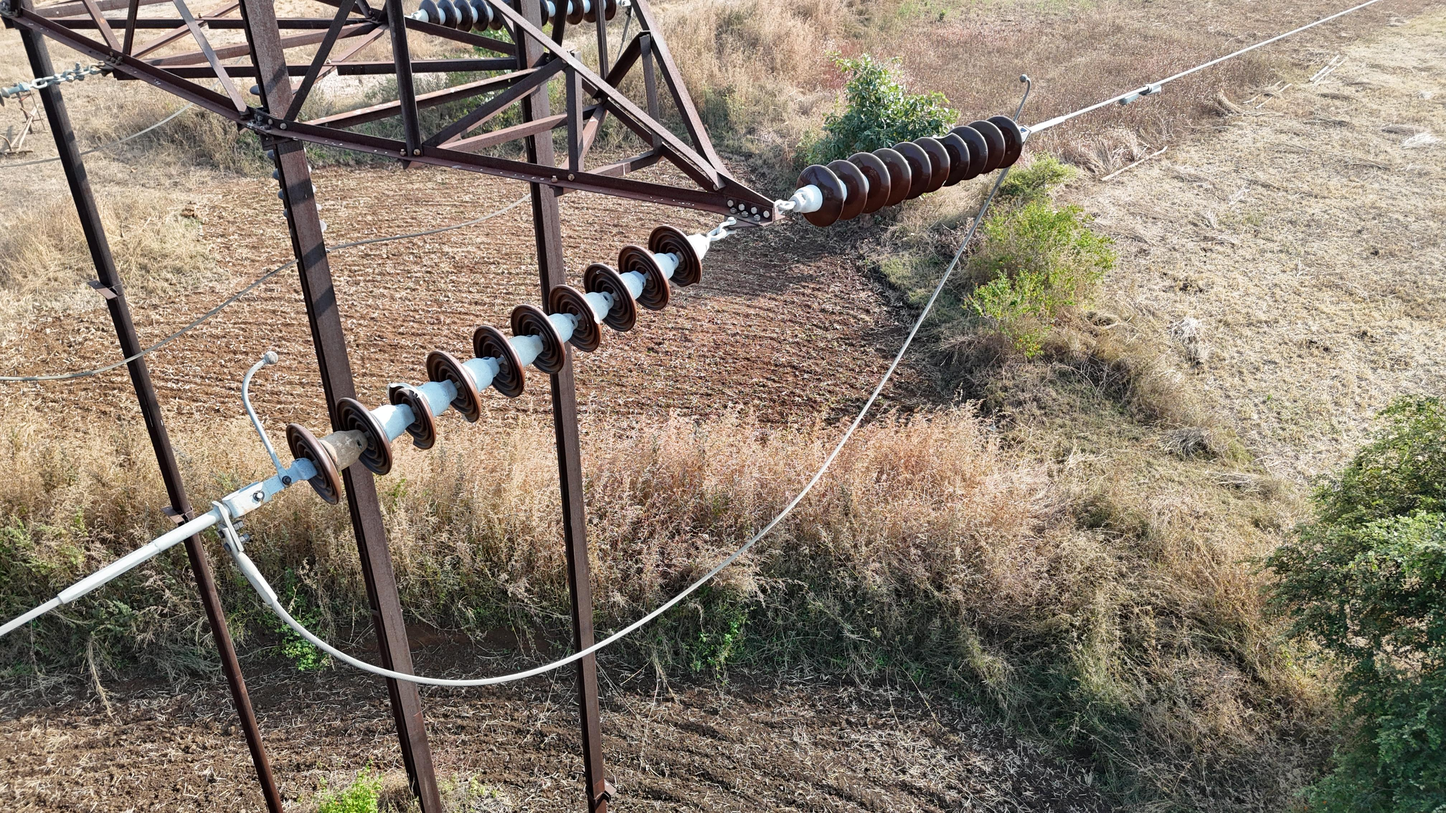broken_insulator: (386, 374, 445, 452), (933, 129, 971, 187)
